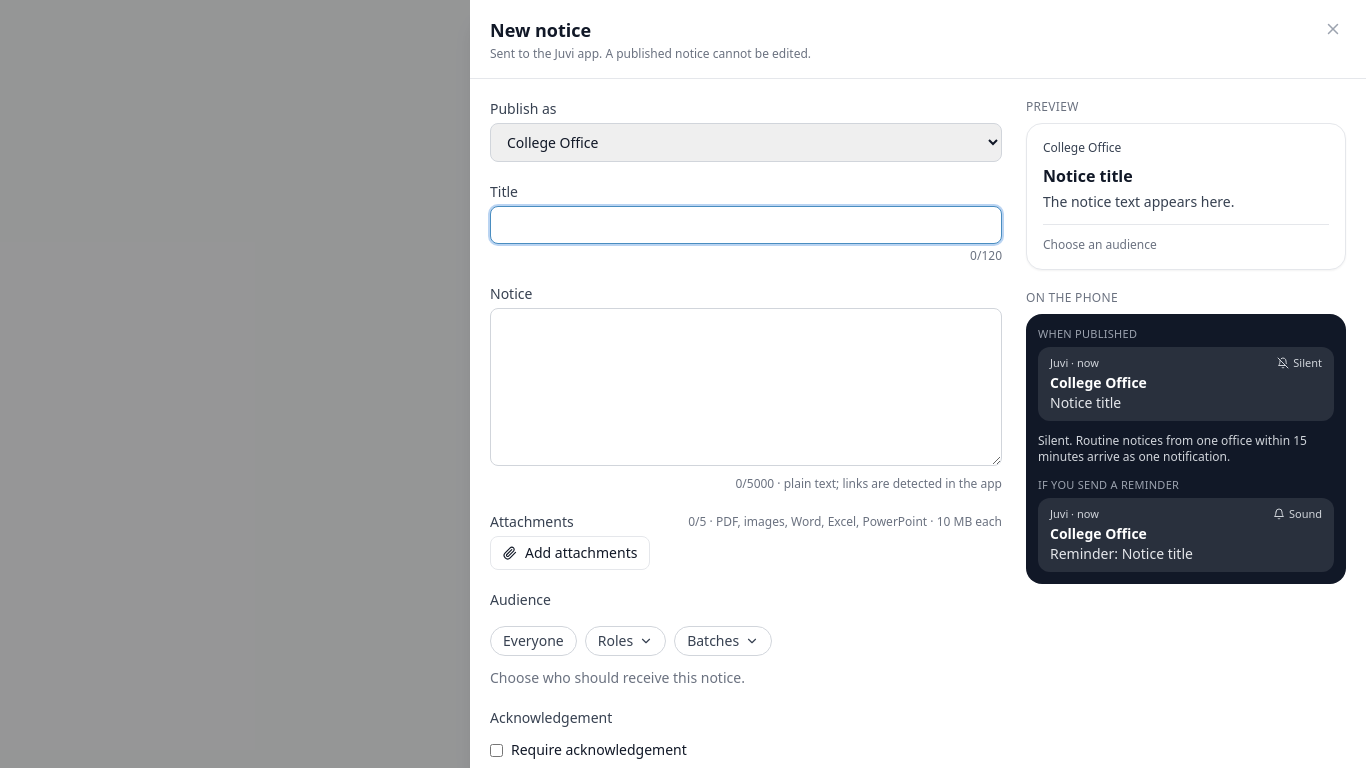
NoticeComposer › phone tray preview (notifications spec §6.6, §9) › follows the title, the office, Confidential and the priority
Check: the dropdown labelled "Publish as" is shown, box [490,123,1002,162]
Type "Revaluation results" into the field labelled "Title" at (746, 225), box [490,206,1002,244]
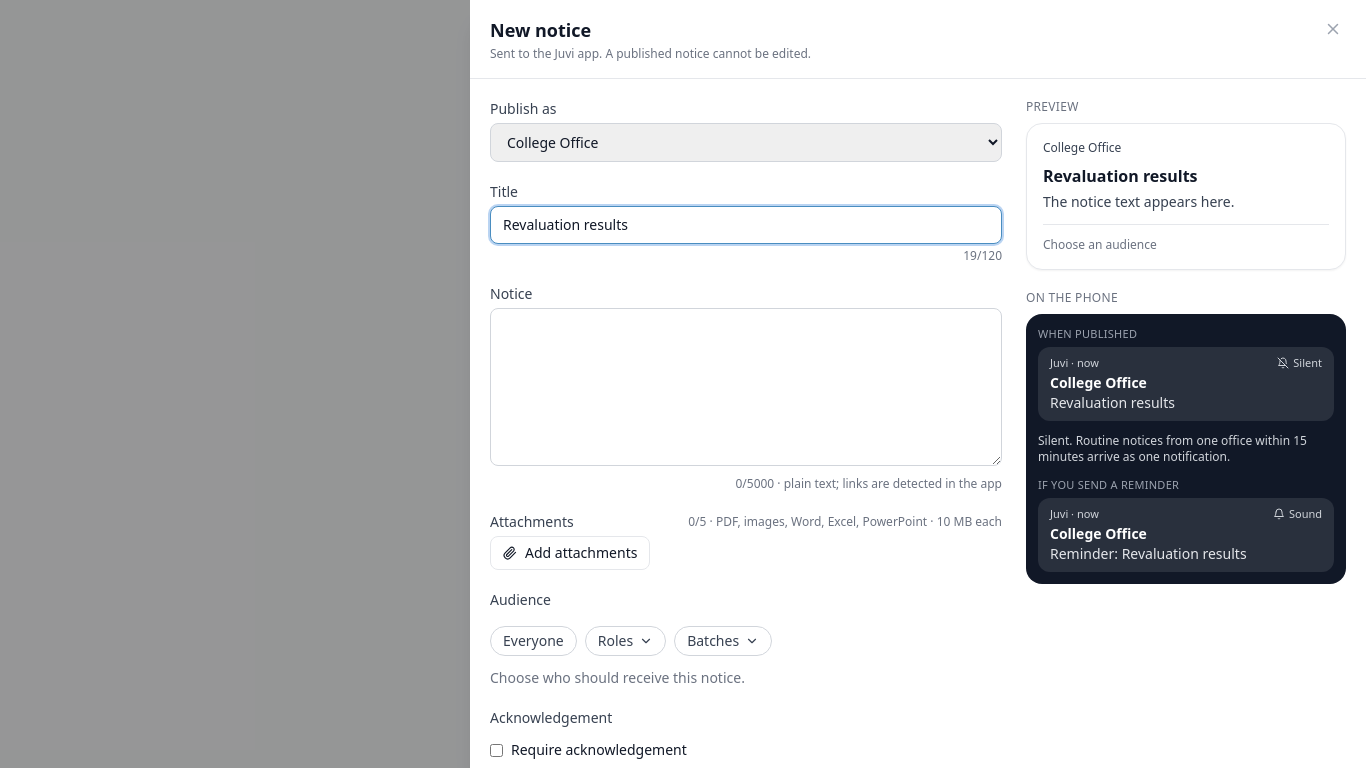
Check: the text "College Office" is shown 2 times, box [1050,373,1147,392]; [1050,524,1147,543]
Check: the text "Revaluation results" is shown, box [1050,393,1175,412]
Select "Exam Section" in the dropdown labelled "Publish as" at (746, 142), box [490,123,1002,162]
(page scrolled)
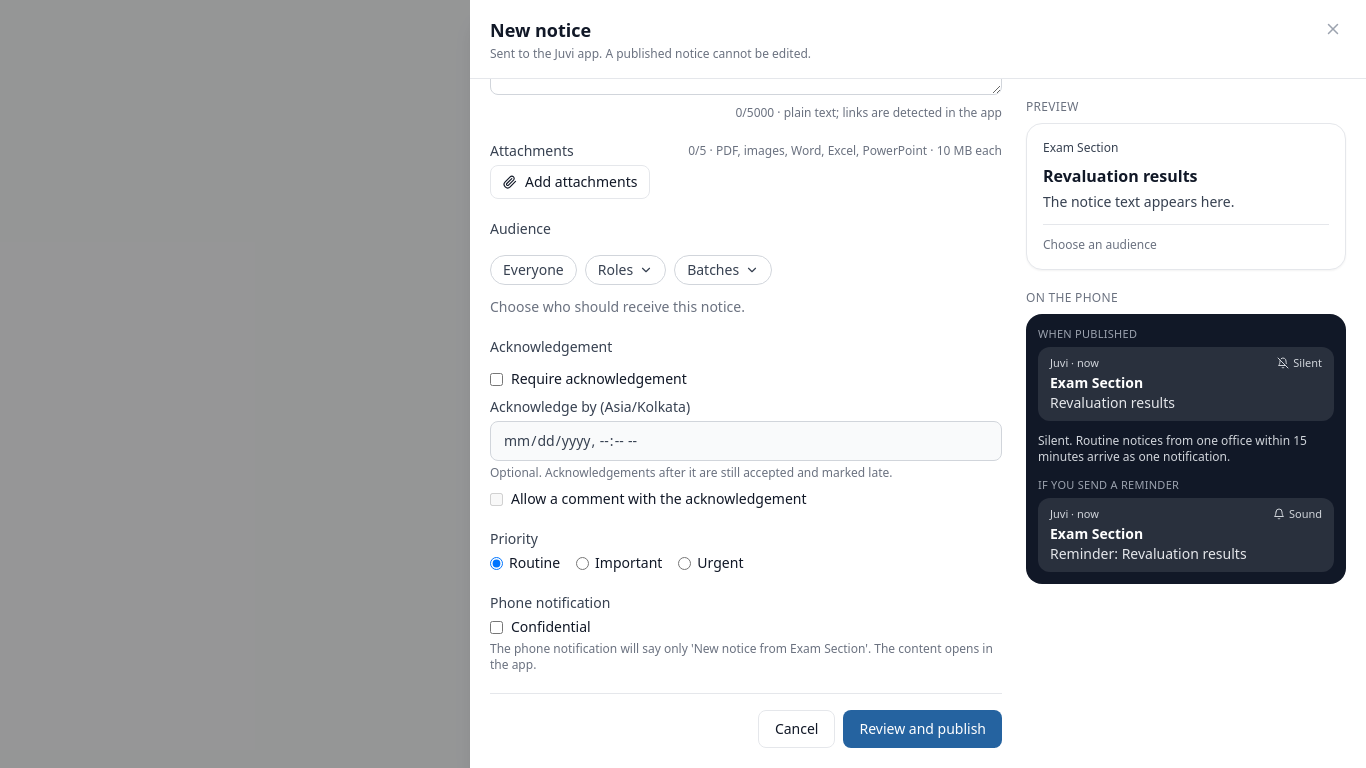
Click the checkbox labelled "Confidential" at (496, 627), box [490,620,503,634]
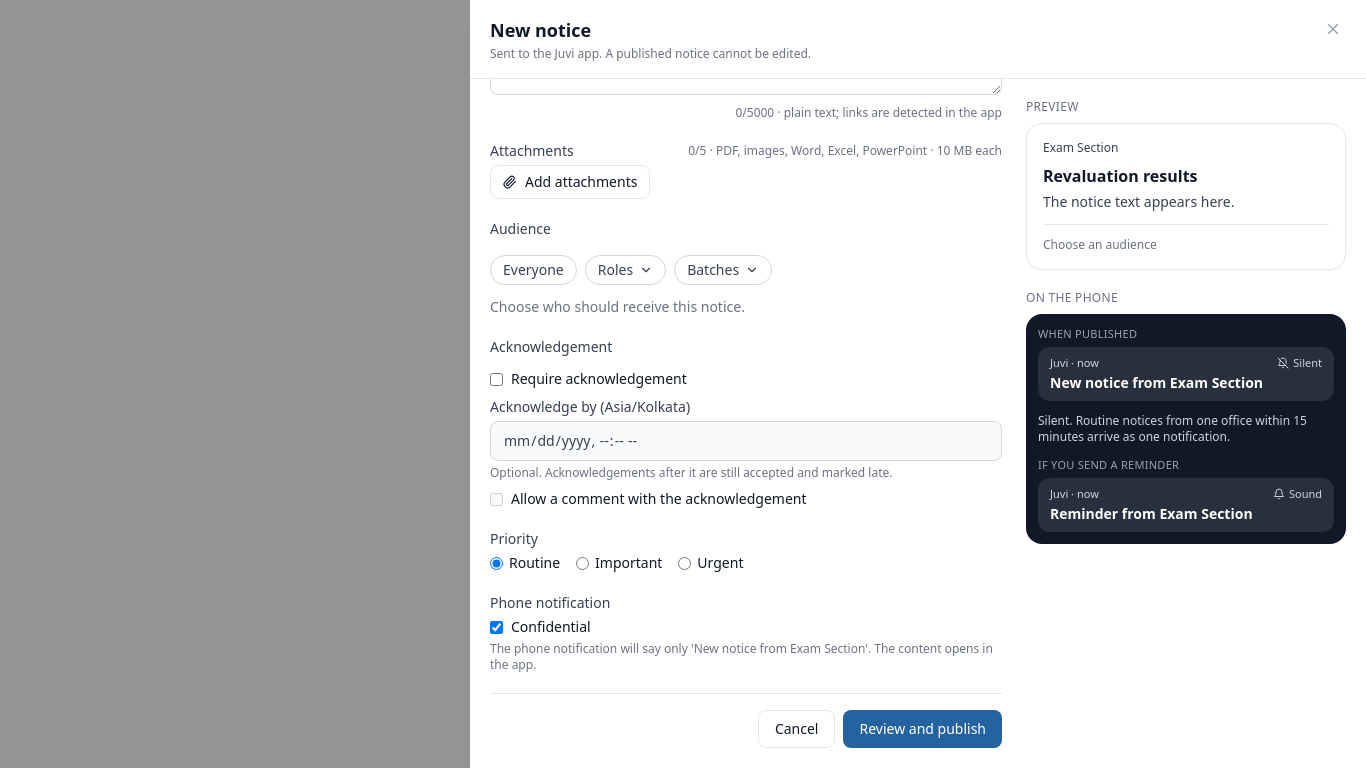
Check: the element named "Phone notification preview" does not show "Revaluation results", box [1026,314,1346,544]
Check: the text "New notice from Exam Section" is shown, box [1050,373,1263,392]
Click the radio button labelled "Urgent" at (685, 563), box [678,556,691,570]
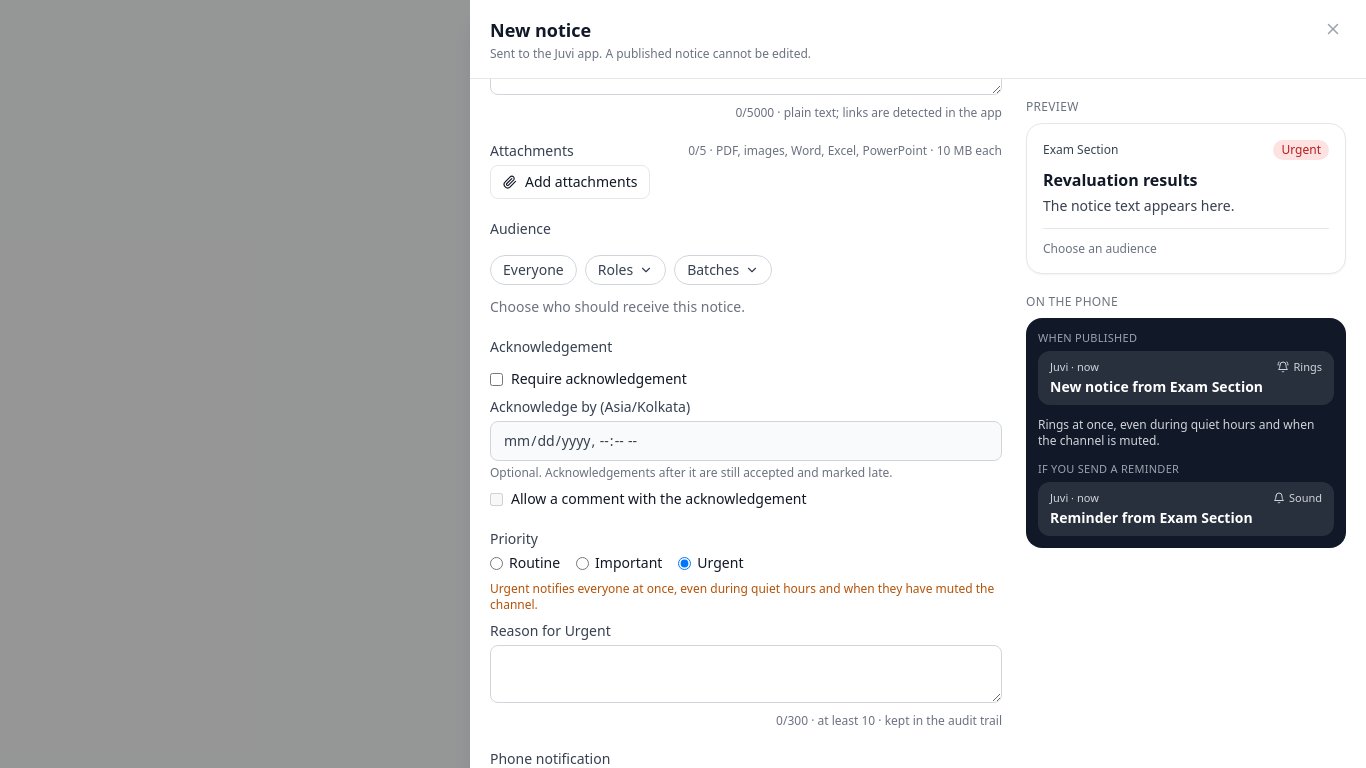
Check: the element named "Phone notification preview" shows "Rings at once", box [1038,416,1314,449]
